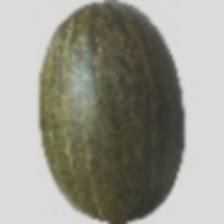honeydew: (31, 56, 224, 193)
